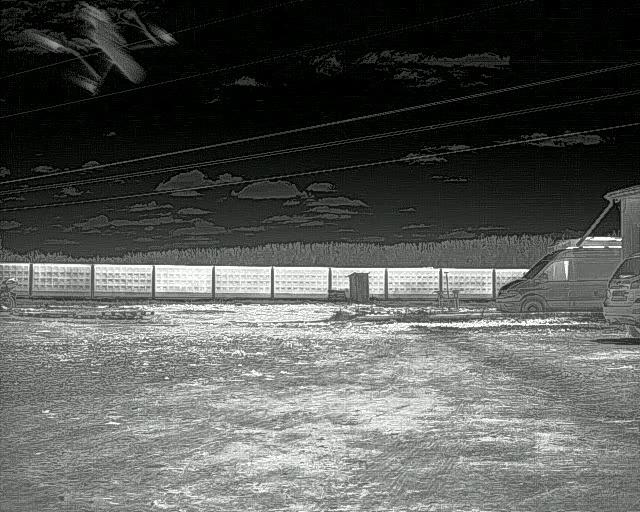drone-thermal: (24, 1, 183, 102)
